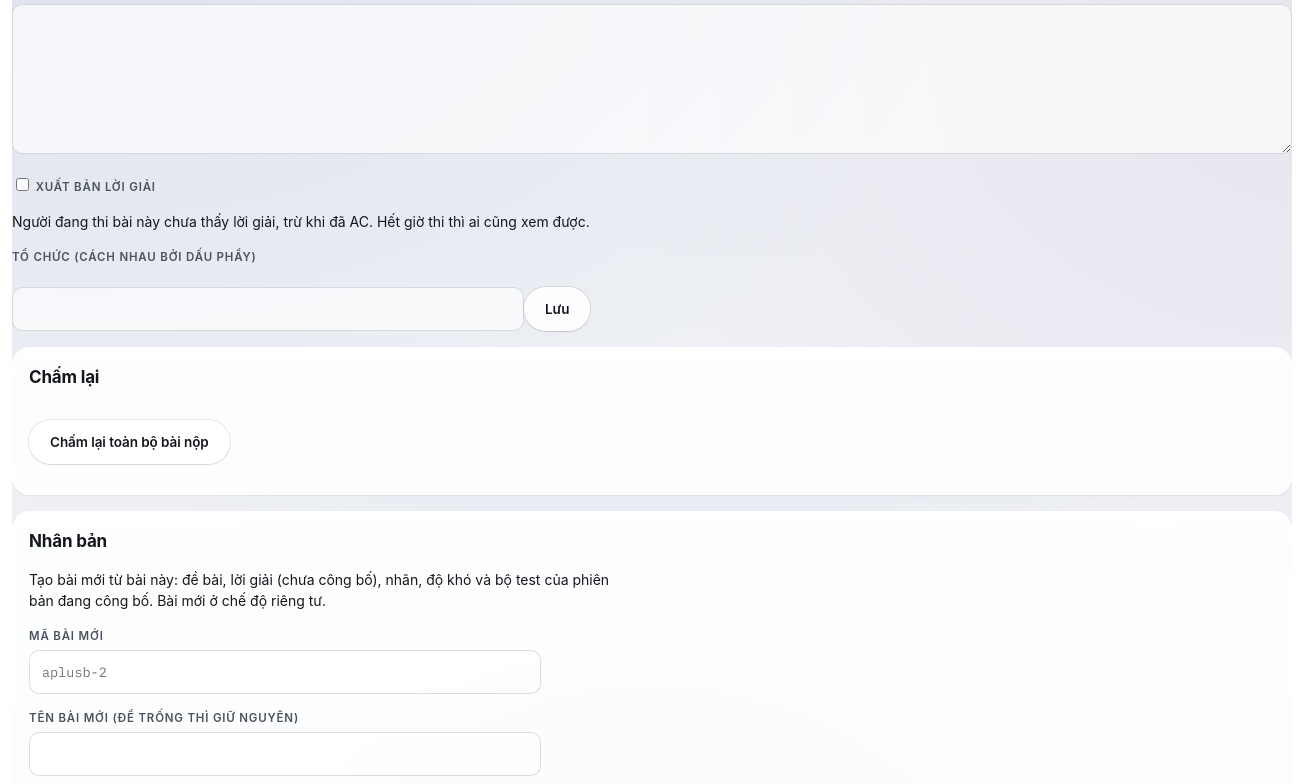
rejudging a problem's whole history › is offered to an admin on the edit screen and reports how many were queued
(page scrolled)
Click the button "Chấm lại toàn bộ bài nộp" at (129, 442), box top-left (29, 420), bottom-right (230, 464)
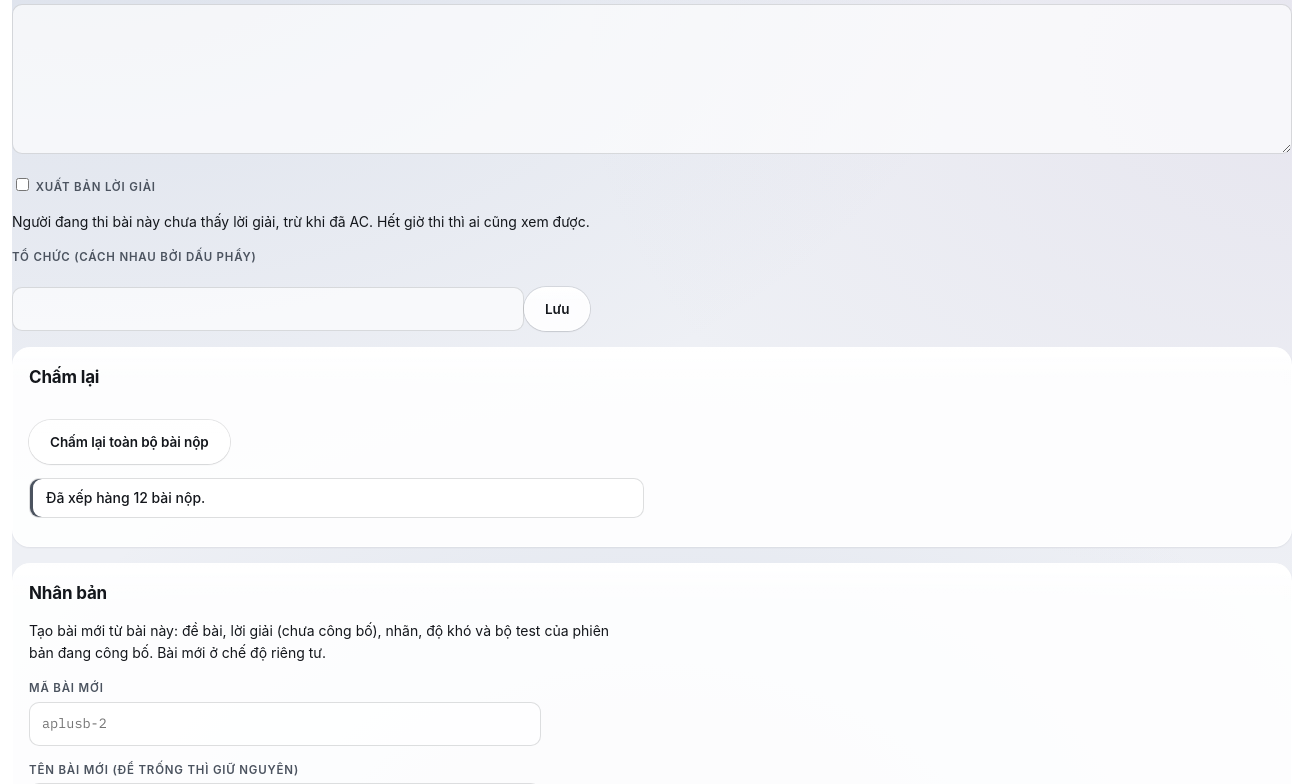
Result: the message reads "Đã xếp hàng 12 bài nộp." at top-left (46, 489), bottom-right (205, 506)
